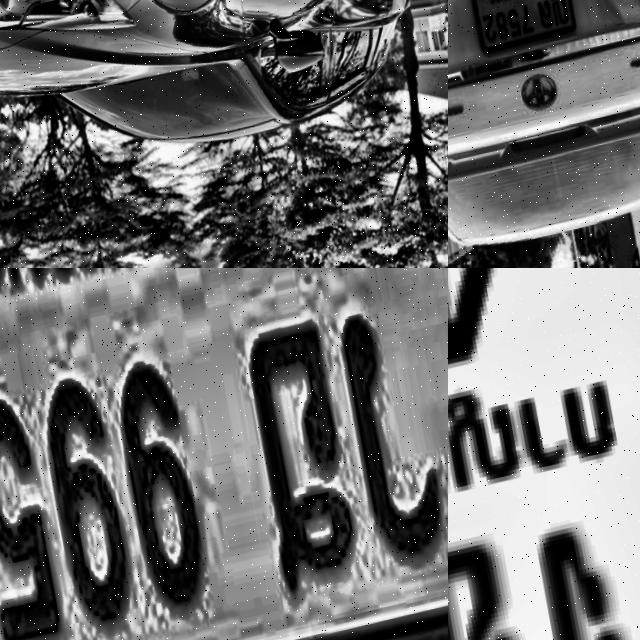license-plate: (0, 268, 448, 640), (448, 268, 640, 640), (466, 0, 581, 63)
